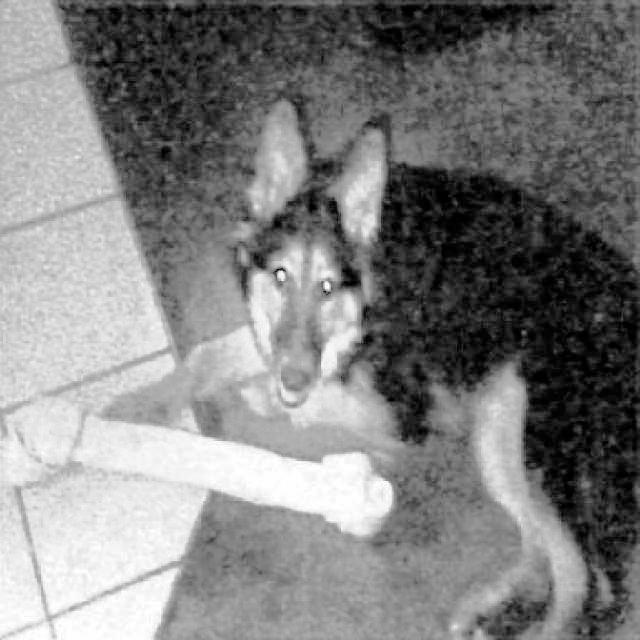Dog: (79, 87, 638, 640)
